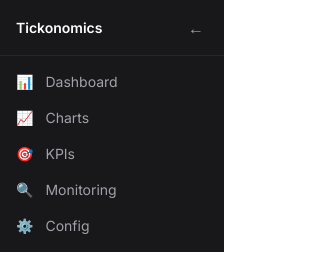
Test case: Sidebar › collapses when toggle button is clicked
Step 1. Click the button named "Collapse sidebar" → (196, 28), box [184,12,208,44]
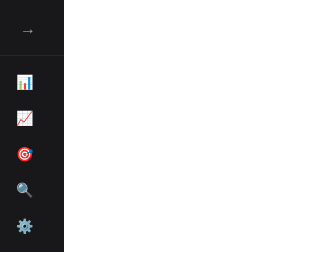
Now the text "Tickonomics" is gone
Now the button named "Expand sidebar" is shown, box [16,12,40,44]
